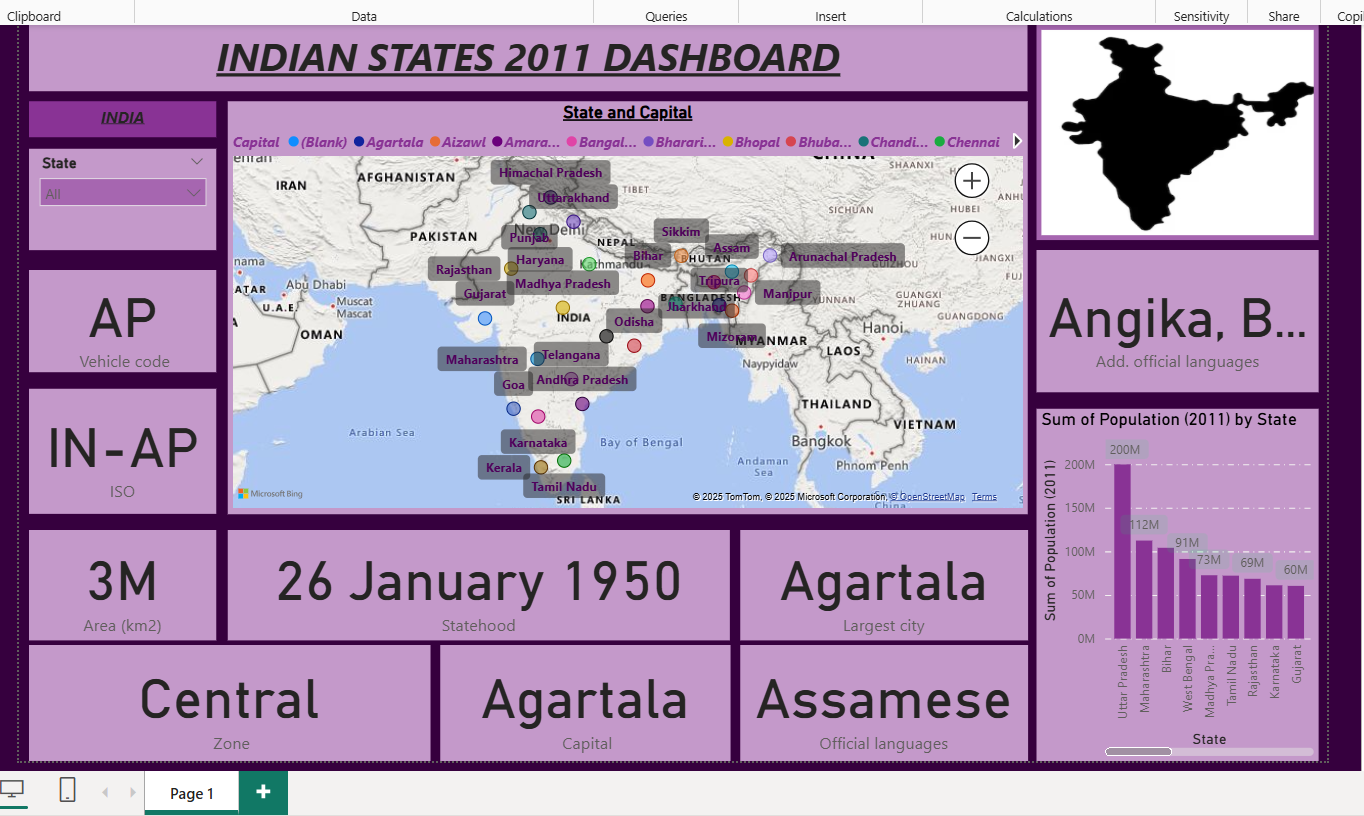

The page's visual inventory and layout, read from the dashboard file:
{"tool":"powerbi","page":{"name":"Page 1","canvas":[1280,720],"ordinal":0},"visuals":[{"type":"clusteredColumnChart","fields":{"Category":["States in India.State"],"Y":["Sum(States in India.Population (2011))"]},"box":[995.4,375.4,276.4,344.8],"z":0},{"type":"card","fields":{"Values":["Min(States in India.Vehicle code)"]},"box":[9.8,239.7,183.4,100.3],"z":1000},{"type":"slicer","fields":{"Values":["States in India.State"]},"box":[9.8,121.1,183.4,99],"z":2000},{"type":"card","fields":{"Values":["Min(States in India.Capital)"]},"box":[412.1,606.5,283.7,113.7],"z":3000},{"type":"card","fields":{"Values":["Min(States in India.ISO)"]},"box":[9.8,355.8,183.4,122.3],"z":4000},{"type":"card","fields":{"Values":["Min(States in India.Zone)"]},"box":[9.8,606.5,392.5,113.7],"z":5000},{"type":"card","fields":{"Values":["Min(States in India.Largest city)"]},"box":[705.6,494,281.3,107.6],"z":6000},{"type":"card","fields":{"Values":["Min(States in India.Additional official languages)"]},"box":[995.4,220.1,276.4,139.4],"z":7000},{"type":"card","fields":{"Values":["Min(States in India.Official languages)"]},"box":[705.6,606.5,281.3,113.7],"z":8000},{"type":"card","fields":{"Values":["Sum(States in India.Area (km2))"]},"box":[9.8,494,183.4,107.6],"z":9000},{"type":"card","fields":{"Values":["Min(States in India.Statehood)"]},"box":[204.2,494,491.6,107.6],"z":10000},{"type":"textbox","box":[9.8,0,977,64.8],"z":11000},{"type":"map","fields":{"Series":["States in India.Capital"],"Category":["States in India.State"]},"box":[204.2,74.6,782.6,403.5],"z":12000},{"type":"image","box":[995.4,0,276.4,210.3],"z":13000},{"type":"textbox","box":[9.8,74.6,183.4,35.5],"z":14000}]}

Visuals, with their boxes in screenshot pixels (x1, y1, x2, y2):
clusteredColumnChart - States in India.State x Sum(States in India.Population (2011)): locate(1030, 409, 1310, 758)
card - Min(States in India.Vehicle code): locate(31, 271, 217, 373)
slicer - States in India.State: locate(31, 151, 217, 252)
card - Min(States in India.Capital): locate(439, 643, 727, 758)
card - Min(States in India.ISO): locate(31, 389, 217, 513)
card - Min(States in India.Zone): locate(31, 643, 429, 758)
card - Min(States in India.Largest city): locate(737, 529, 1022, 638)
card - Min(States in India.Additional official languages): locate(1030, 252, 1310, 393)
card - Min(States in India.Official languages): locate(737, 643, 1022, 758)
card - Sum(States in India.Area (km2)): locate(31, 529, 217, 638)
card - Min(States in India.Statehood): locate(228, 529, 727, 638)
textbox: locate(31, 28, 1022, 94)
map - States in India.Capital x States in India.State: locate(228, 104, 1022, 513)
image: locate(1030, 28, 1310, 242)
textbox: locate(31, 104, 217, 140)
